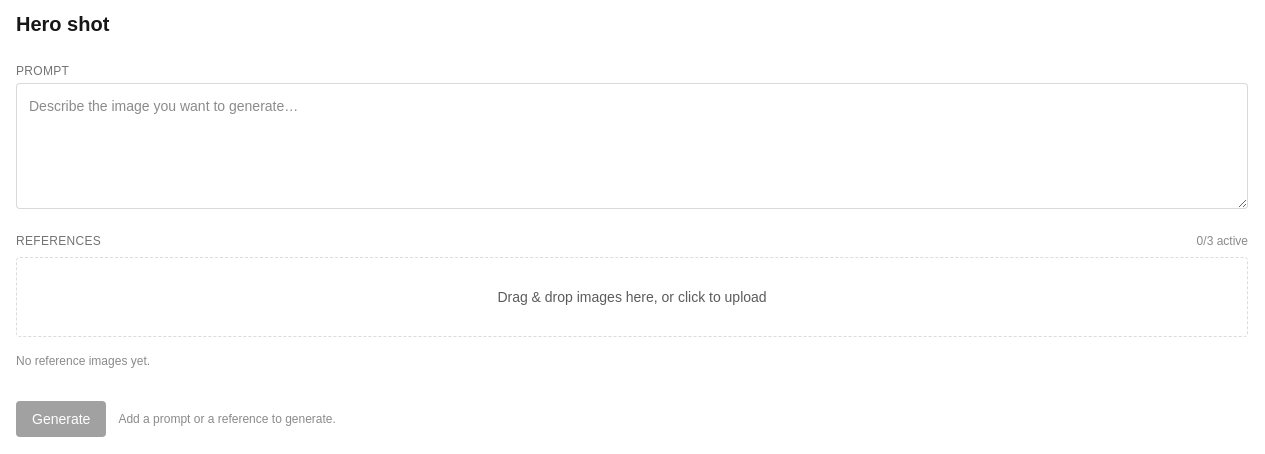
Scenario: TaskDetail — generate gate (BI-007 / BI-031.2) › clears the gate as soon as the draft is typed into
This screenshot has width=1265, height=454.
In the text box with placeholder "Describe the image you want to generate…": (632, 146) [16,83,1248,209], type "a blue door"
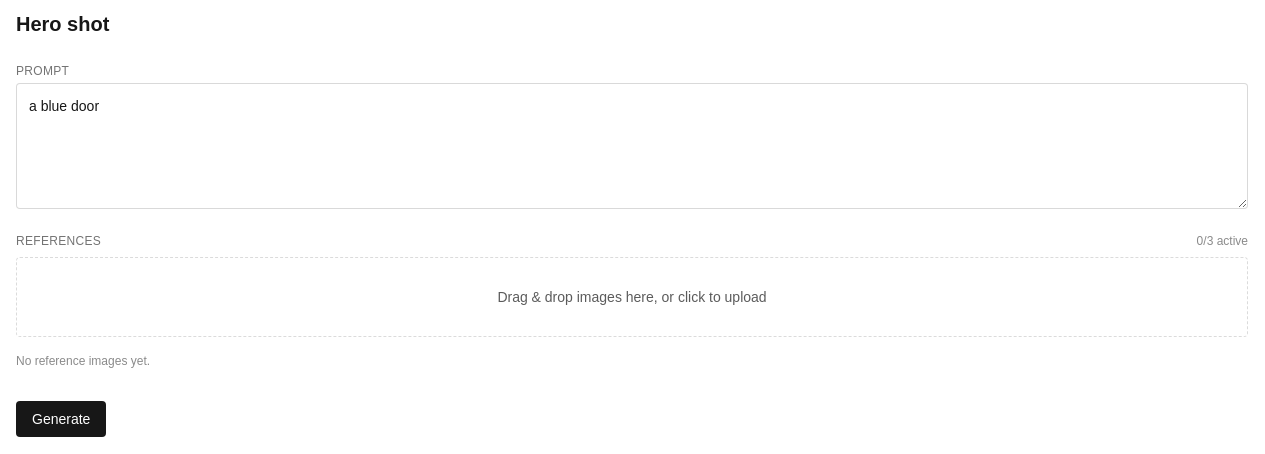
Check: the button "Generate" is enabled, box [16,401,106,437]
